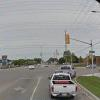Car: (37, 66, 80, 99)
